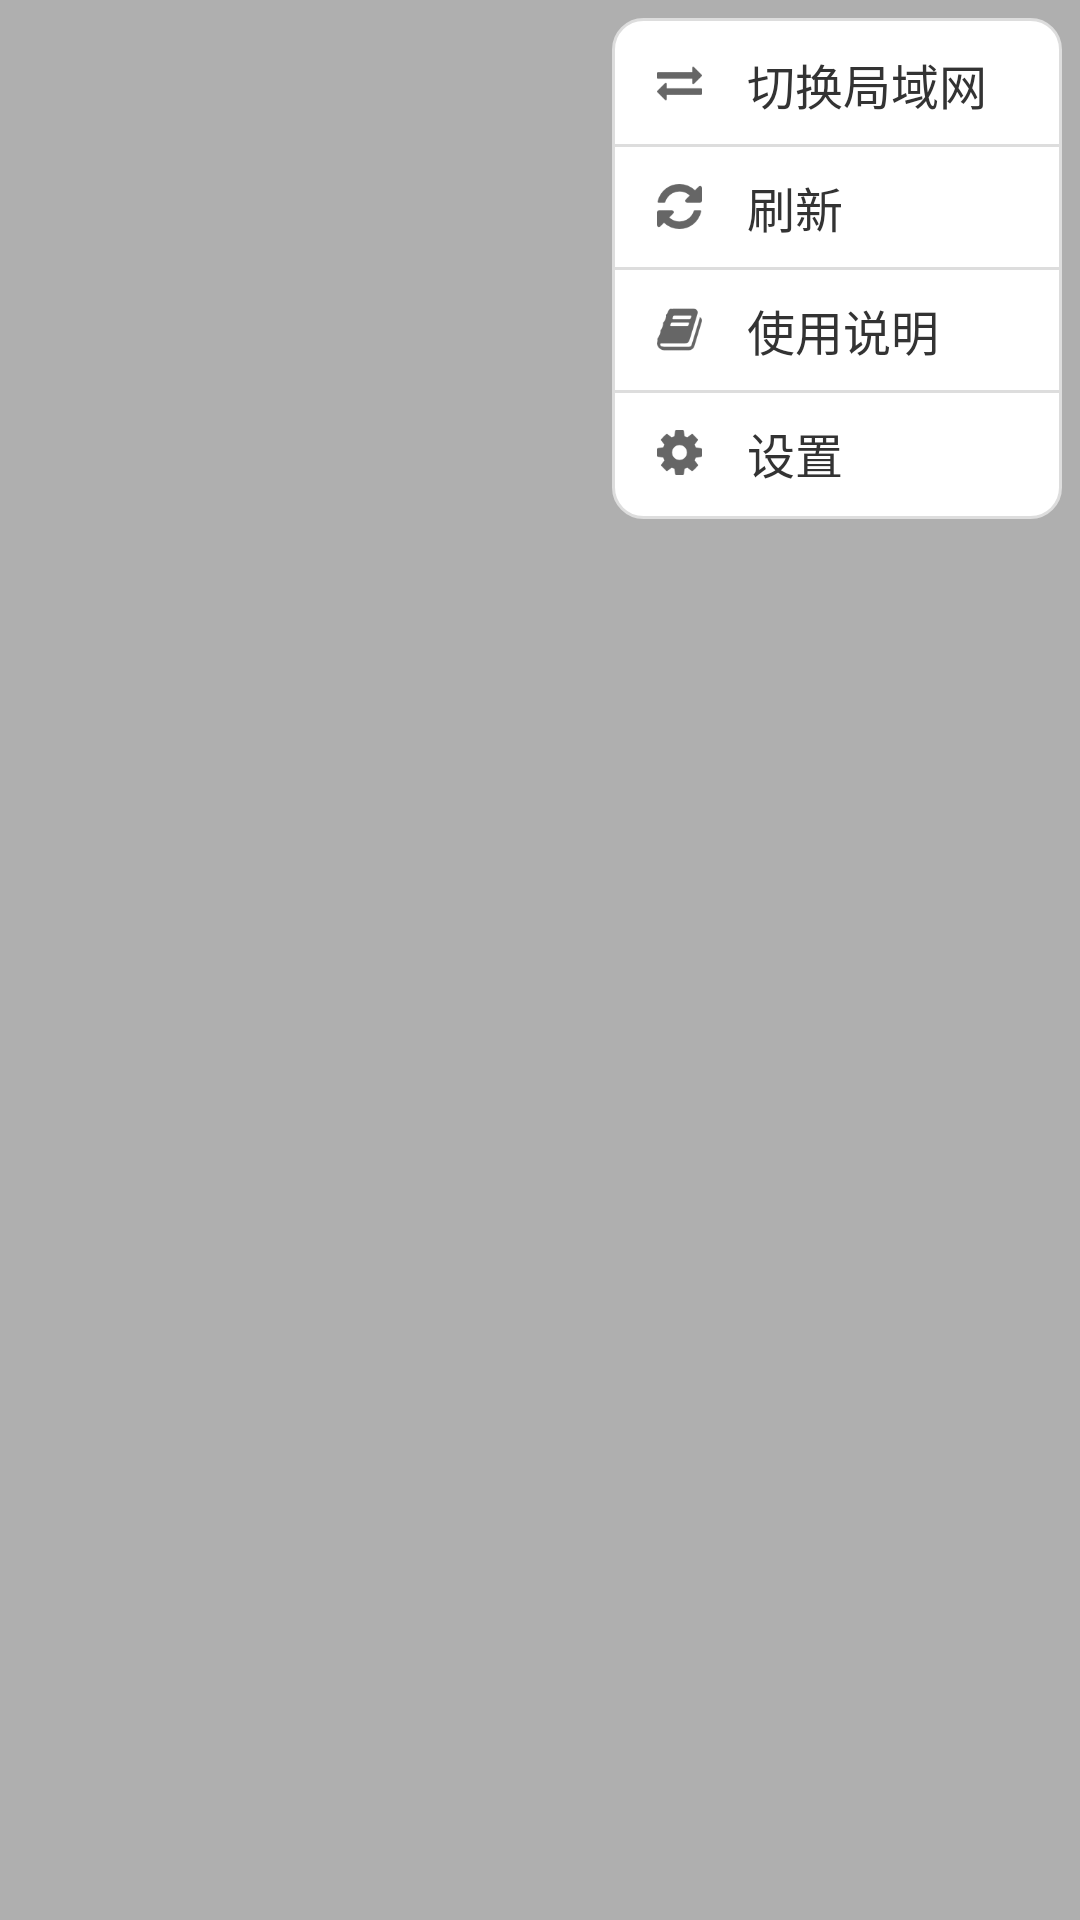

Named icons in this screenshot (1080px×1920px) and their bounding boxes, (x1, y1, x2, y2):
change: (657, 66, 702, 101)
refresh: (657, 184, 702, 229)
set: (657, 430, 702, 475)
